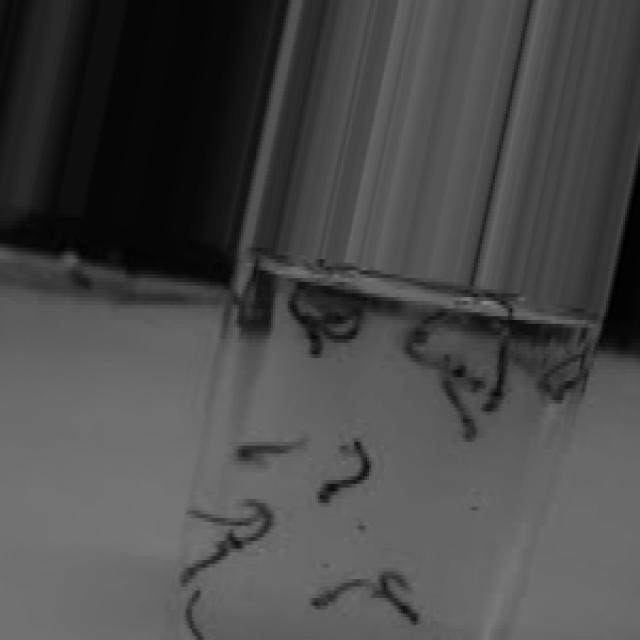larvas: (318, 440, 369, 506), (409, 324, 464, 376), (484, 318, 508, 412), (228, 497, 272, 548), (537, 343, 579, 393), (381, 571, 418, 626), (180, 543, 226, 586), (440, 390, 478, 442), (311, 578, 379, 607), (550, 358, 586, 411), (293, 298, 320, 359), (188, 506, 256, 529), (326, 305, 360, 347), (238, 442, 307, 460), (184, 591, 205, 640)
